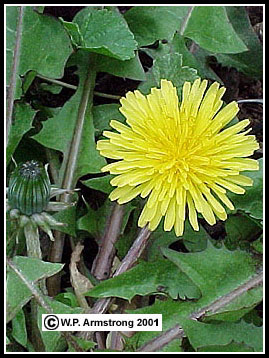dandelion: (104, 94, 255, 227)
